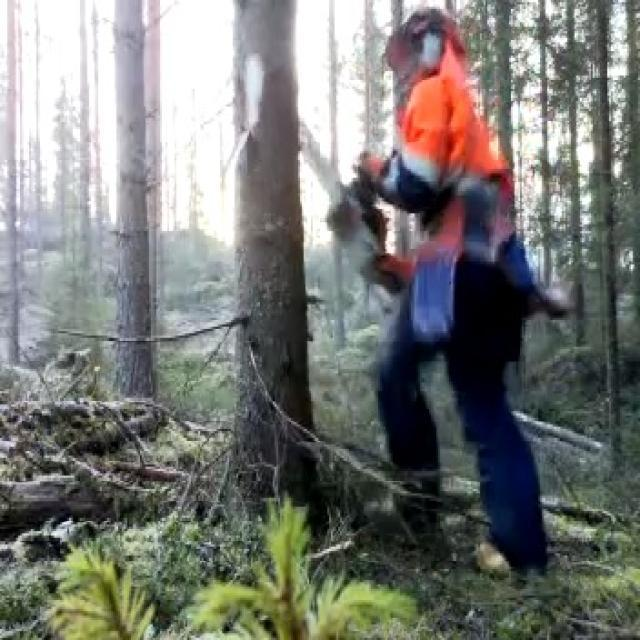Chainsaw: (283, 92, 417, 312)
